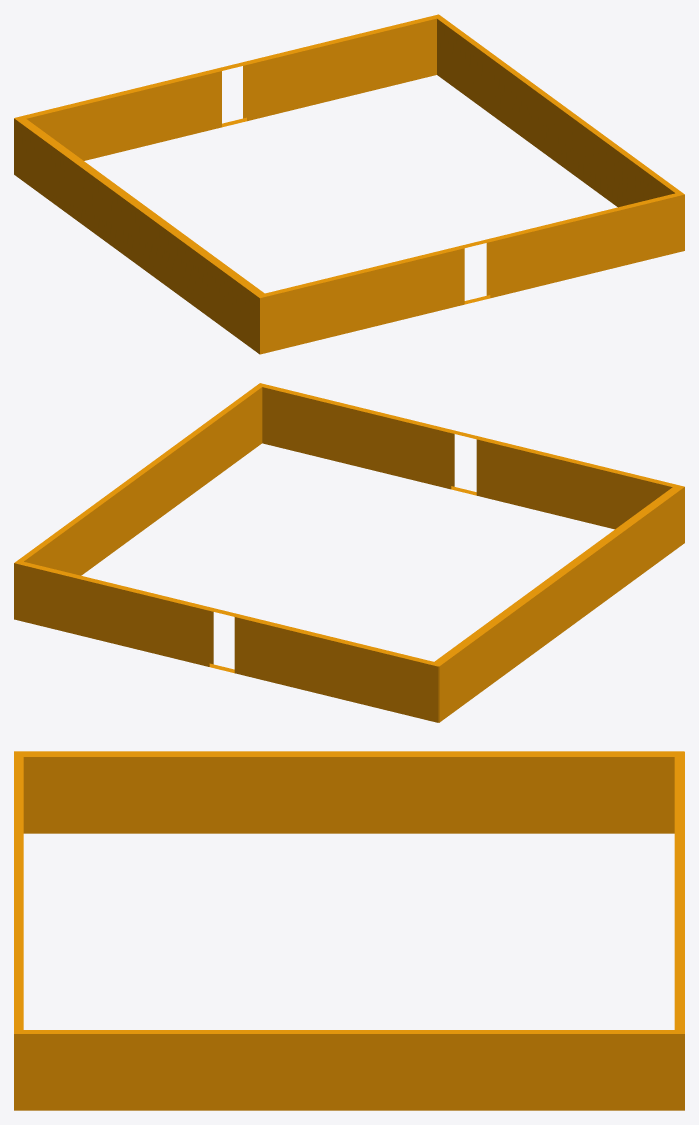
The model's file is déguisement humains.fbx.
3 renders of one model, top to bottom at view 1: azimuth 30°, elevation 25°; view 2: azimuth 150°, elevation 25°; view 3: azimuth 270°, elevation 25°, orthographic. The views are drawn at different scales.
Visible parts, largest first — view 1: deguisement_humains; view 2: deguisement_humains; view 3: deguisement_humains.
Boxes of the visible parts, left/top/right/bottom form: deguisement_humains: left=14, top=14, right=684, bottom=354; deguisement_humains: left=14, top=383, right=684, bottom=722; deguisement_humains: left=14, top=751, right=684, bottom=1110.
Size of the model in its own units: 3753 by 475 by 3763.
